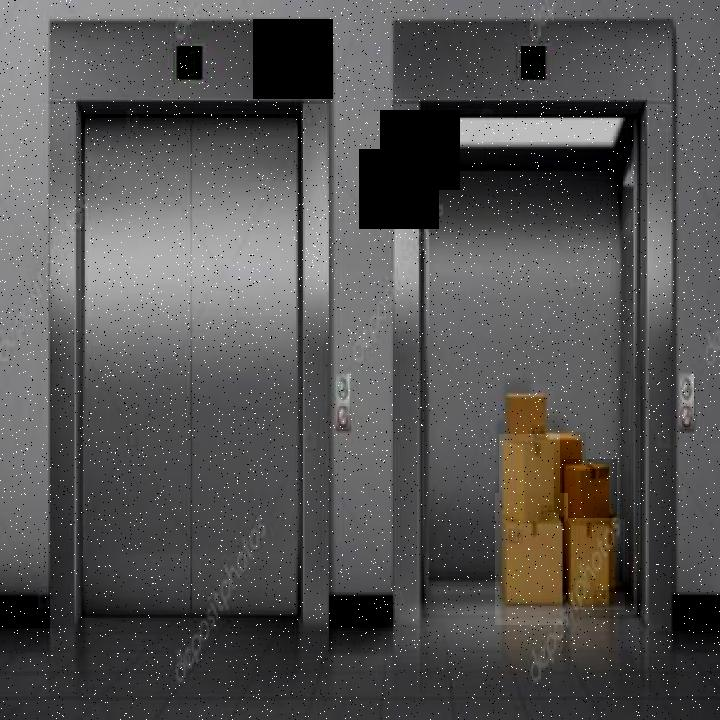box: (495, 493, 568, 625), (499, 434, 560, 530), (566, 518, 625, 610), (562, 459, 617, 533), (506, 384, 556, 457), (556, 432, 586, 484)
